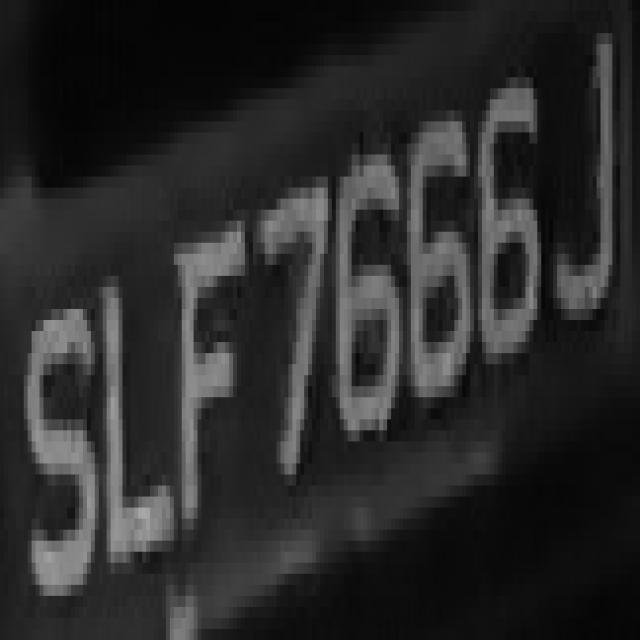6: (332, 121, 407, 496), (466, 67, 545, 420), (403, 89, 470, 464)
7: (241, 154, 332, 486)
F: (170, 210, 257, 574)
J: (541, 11, 628, 342)
L: (87, 243, 178, 618)
S: (20, 243, 95, 618)
